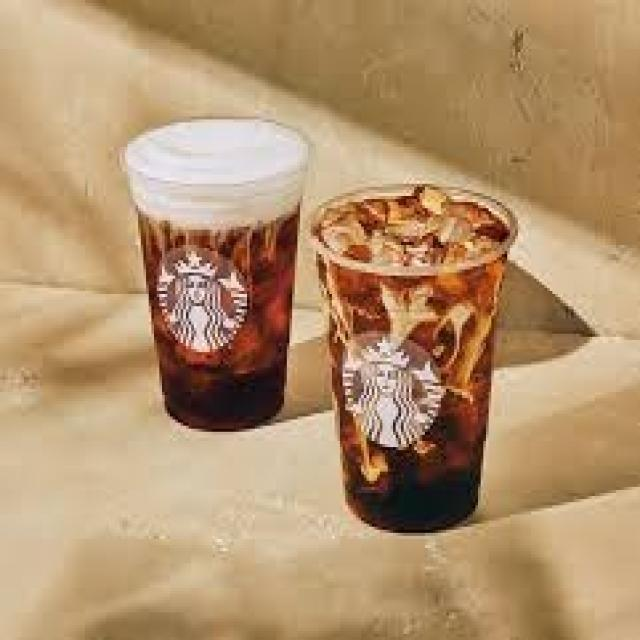starbucks: (336, 330, 446, 447), (154, 245, 245, 357)
